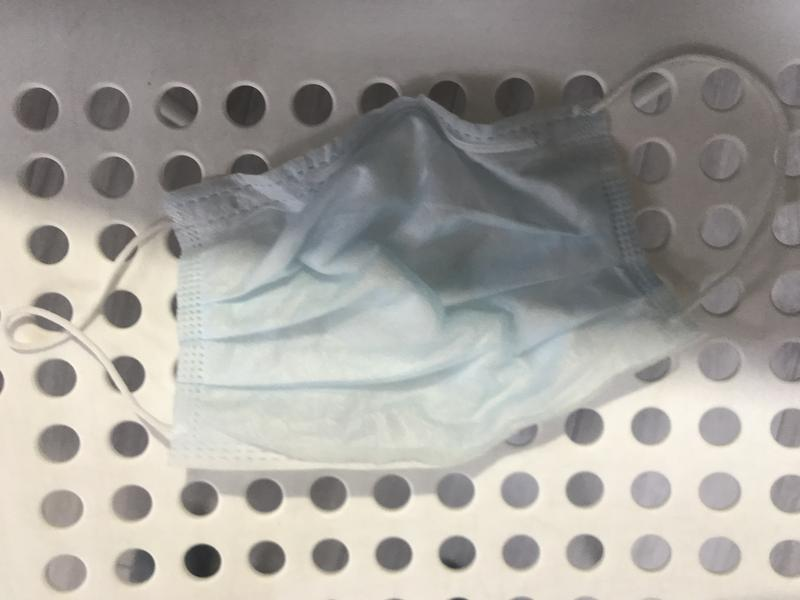medical_mask: (3, 51, 788, 463)
